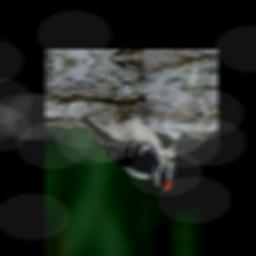Woodpecker: (78, 101, 180, 202)
